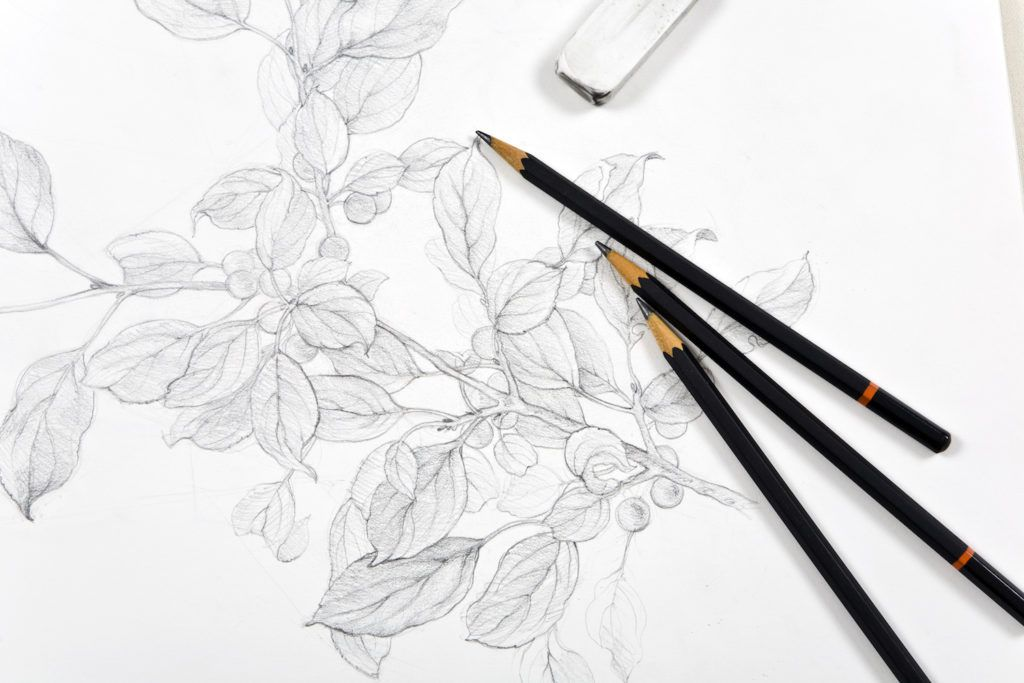pencil: (398, 60, 1024, 683)
